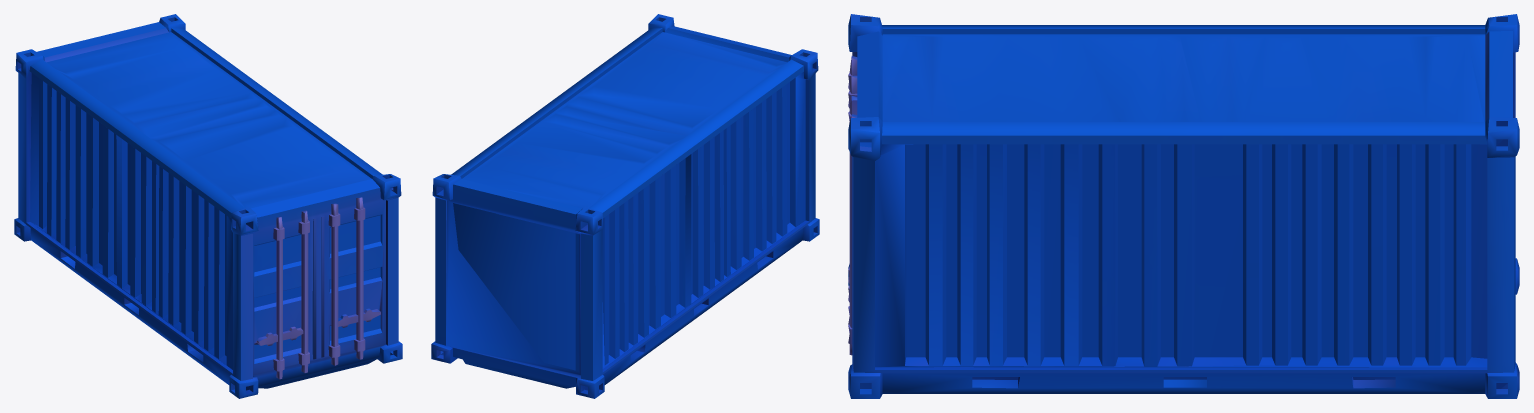
The model's file is model.progressive.glb.
3 views of the same model, side by side, from view 1: azimuth 30°, elevation 25°; view 2: azimuth 150°, elevation 25°; view 3: azimuth 270°, elevation 25° (orthographic). The views are drawn at different scales.
Visible parts, largest first — view 1: BlueShippingContainer5; view 2: BlueShippingContainer5; view 3: BlueShippingContainer5.
Part boxes in pixels (x1=…): BlueShippingContainer5: x1=14, y1=14, x2=402, y2=398; BlueShippingContainer5: x1=431, y1=14, x2=819, y2=398; BlueShippingContainer5: x1=848, y1=14, x2=1519, y2=398.
Size of the model in its own units: 0.8025 by 0.8475 by 1.9.
1 material, 1 textured.
